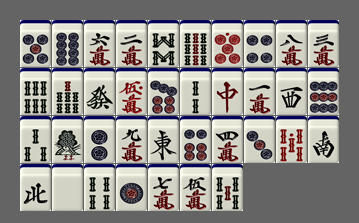0m: (116, 68, 147, 115)
0p: (212, 20, 243, 67)
0s: (276, 116, 307, 163)
1m: (244, 68, 275, 115)
1p: (116, 164, 147, 211)
1s: (52, 116, 83, 163)
1z: (148, 116, 179, 163)
2m: (116, 20, 147, 67)
2p: (84, 116, 115, 163)
2s: (180, 68, 211, 115)
2z: (308, 116, 339, 163)
3m: (308, 20, 339, 67)
3p: (244, 116, 275, 163)
3s: (20, 116, 51, 163)
3z: (276, 68, 307, 115)
4m: (212, 116, 243, 163)
4p: (244, 20, 275, 67)
4s: (84, 164, 115, 211)
4z: (20, 164, 51, 211)
5m: (180, 164, 211, 211)
5p: (20, 20, 51, 67)
5s: (212, 164, 243, 211)
5z: (52, 164, 83, 211)
6m: (84, 20, 115, 67)
6p: (180, 116, 211, 163)
6s: (20, 68, 51, 115)
6z: (84, 68, 115, 115)
7m: (148, 164, 179, 211)
7p: (148, 68, 179, 115)
7s: (52, 68, 83, 115)
7z: (212, 68, 243, 115)
8m: (276, 20, 307, 67)
8p: (52, 20, 83, 67)
8s: (148, 20, 179, 67)
9m: (116, 116, 147, 163)
9p: (308, 68, 339, 115)
9s: (180, 20, 211, 67)
